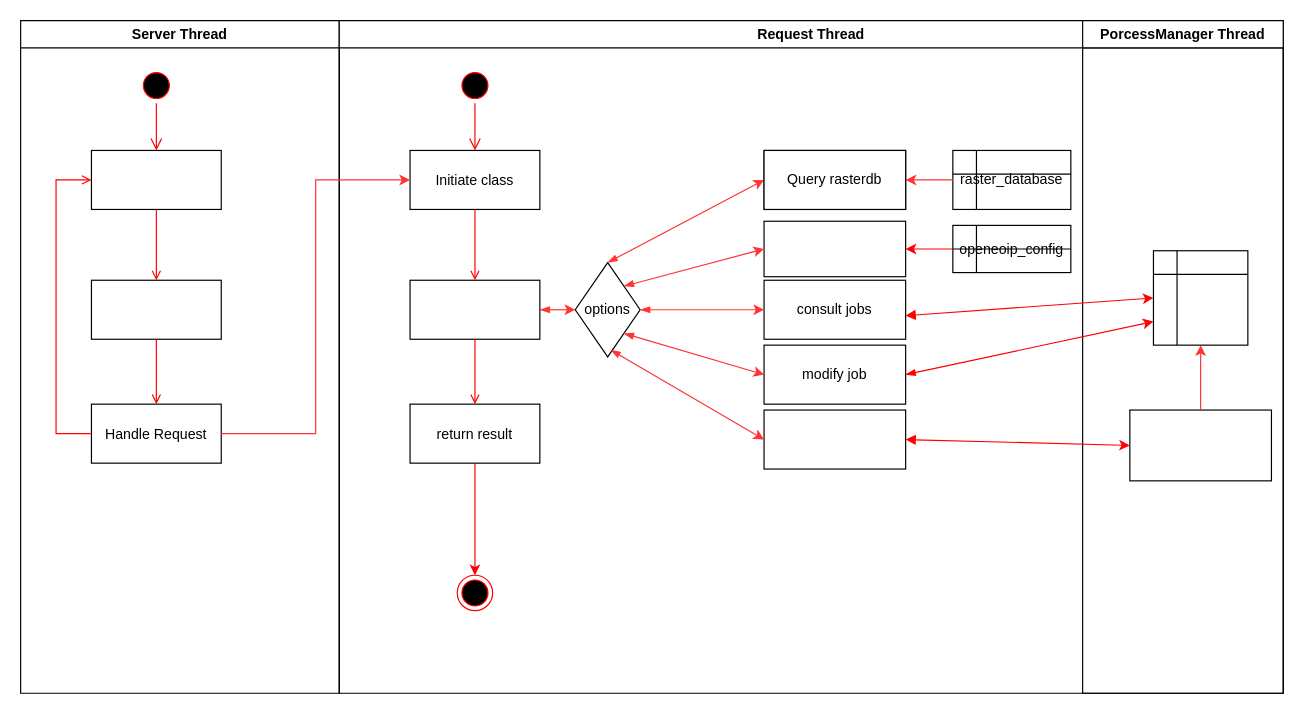
The diagram is 1304 pixels wide and 714 high, and some of its shapes have lost their labels. The shapes that lost their labels are listed below. From the top down, each one's centre as x and y in pixels, then its label:
[155,179]: idle
[834,248]: consult configuration
[155,309]: New Request
[474,309]: request method
[1200,297]: Job List
[834,439]: create job
[1200,445]: Job creation
